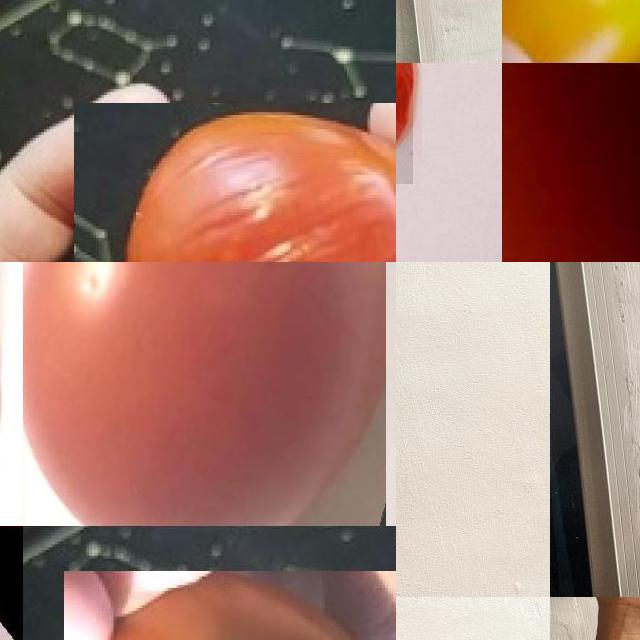0: (23, 262, 385, 526)
1: (64, 571, 396, 640)
Fresh Tomato: (502, 63, 640, 262)
Rotten Tomato: (74, 103, 396, 262), (502, 0, 640, 63)
